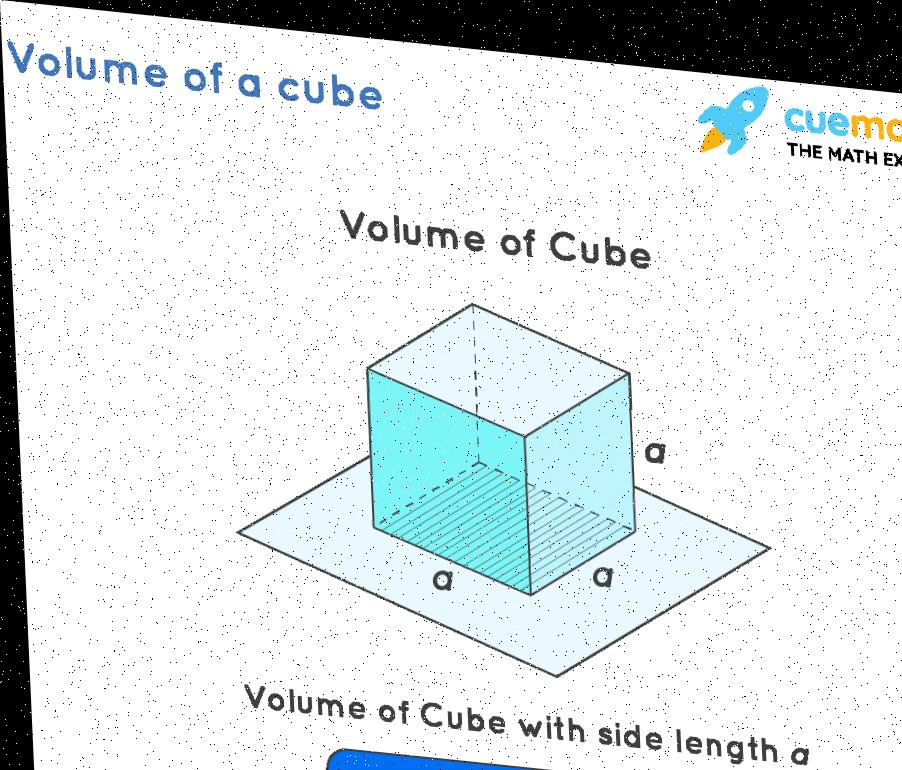cube: (354, 289, 646, 596)
